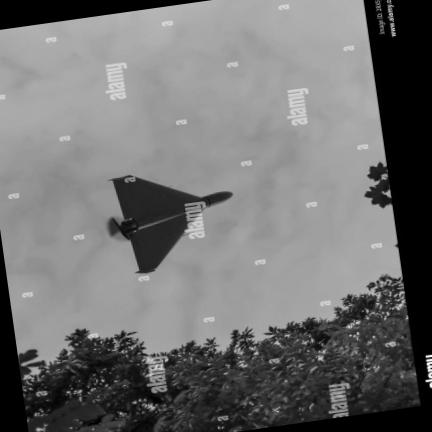Shahed: (108, 174, 232, 272)
